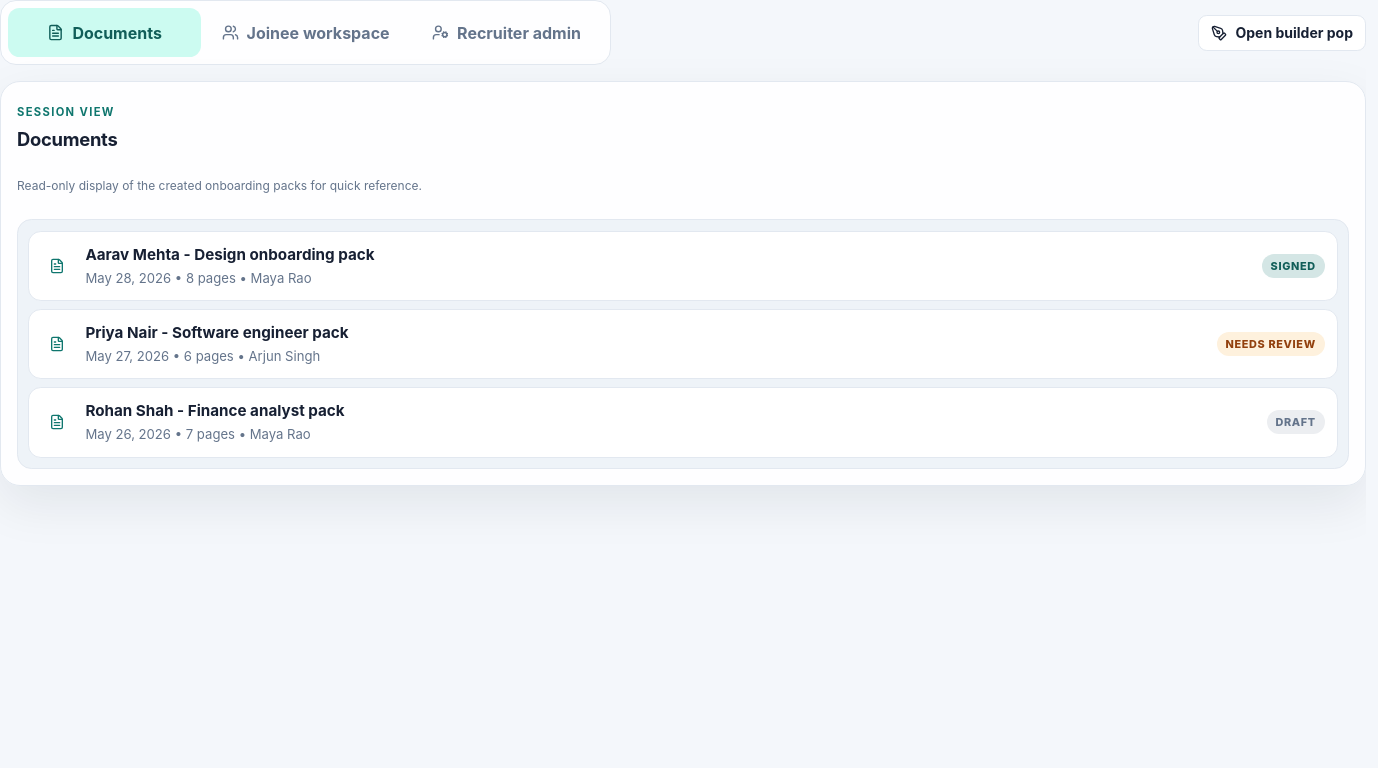
it: DashboardTabs › switches to the joinee workspace and recruiter admin views
Click the tab "Joinee workspace": (306, 33) top-left (209, 8), bottom-right (402, 57)
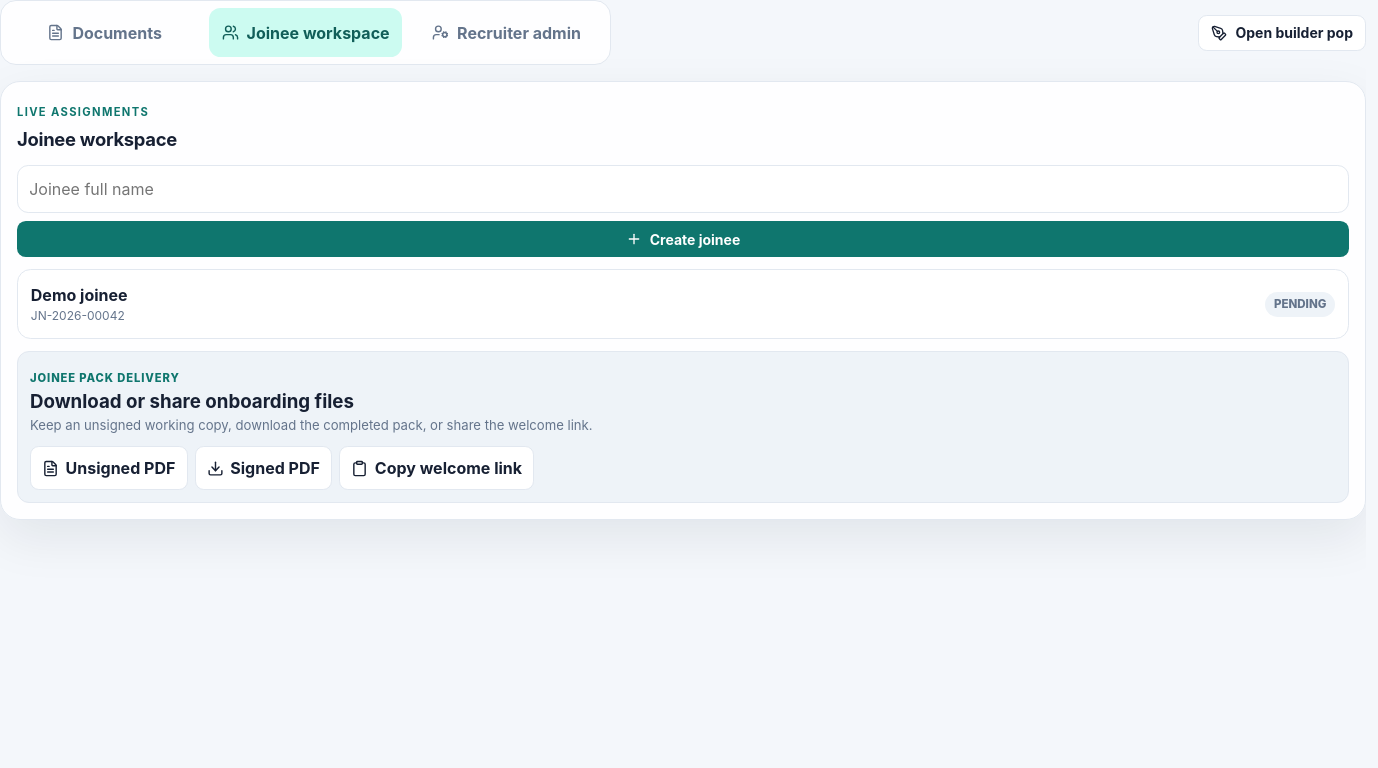
expect the heading "Joinee workspace" is shown: met, box top-left (17, 128), bottom-right (177, 150)
Click the tab "Recruiter admin": (507, 33) top-left (410, 8), bottom-right (603, 57)
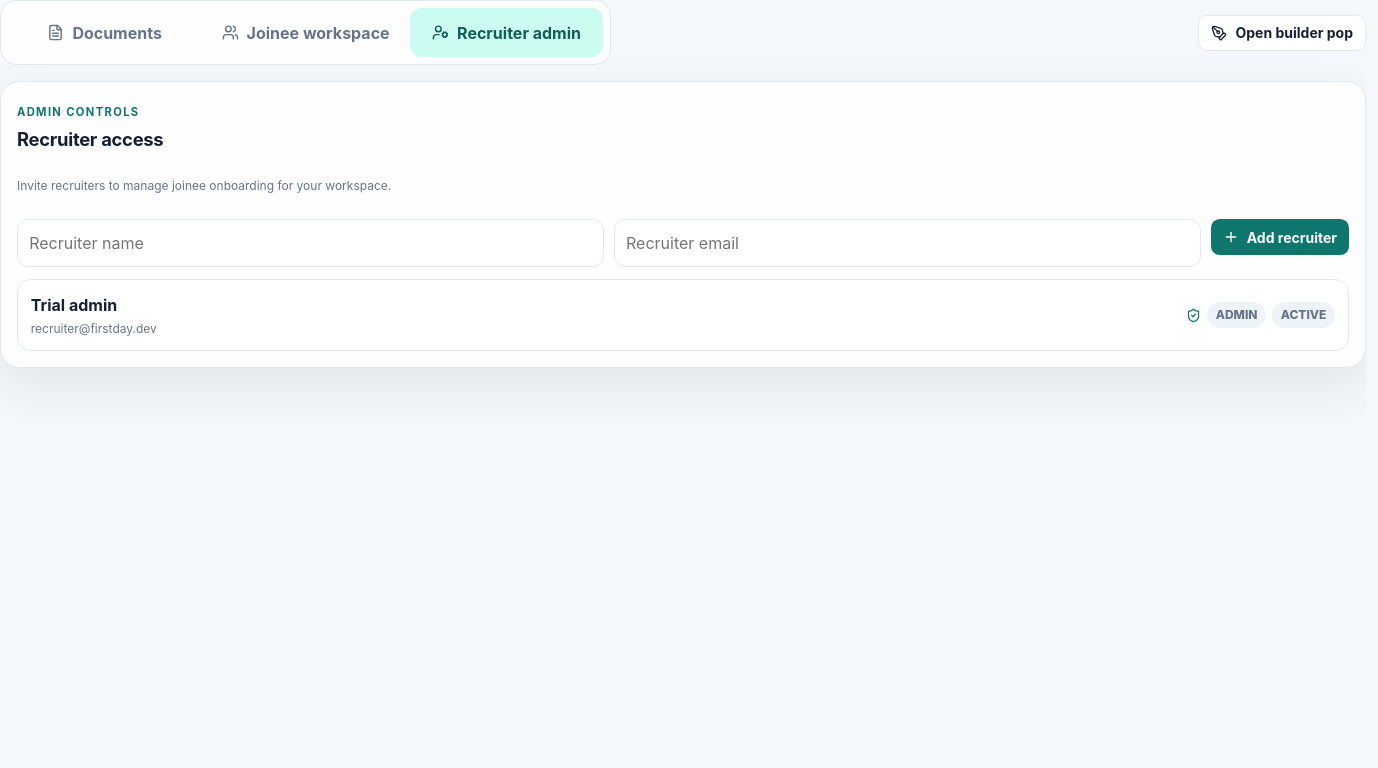
expect the heading "Recruiter access" is shown: met, box top-left (17, 128), bottom-right (163, 150)
